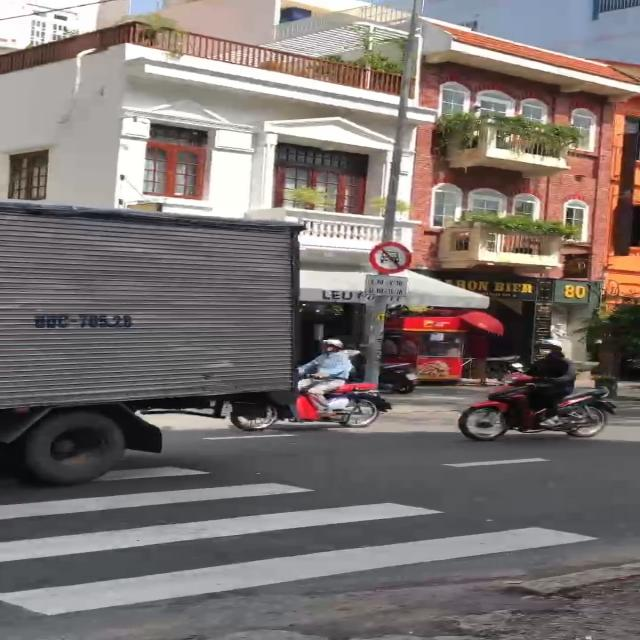Bien bao cam xe oto: (369, 238, 418, 273)
